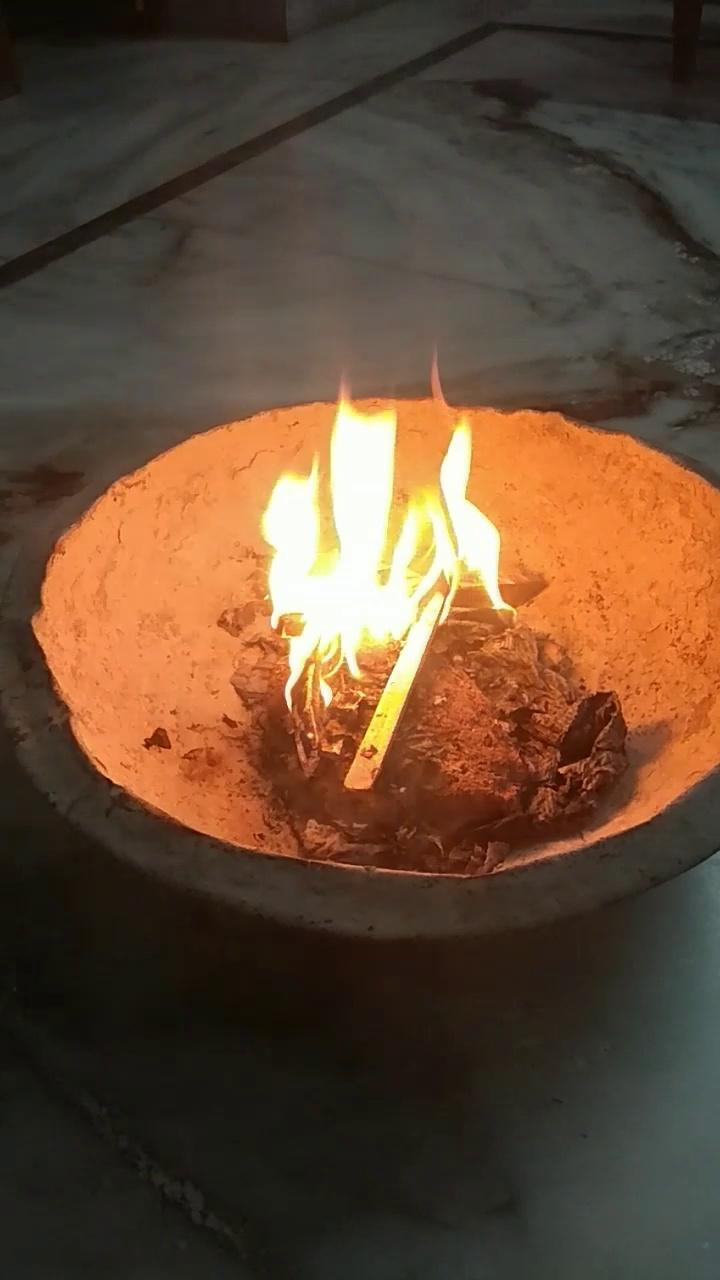fire: (248, 367, 501, 716)
